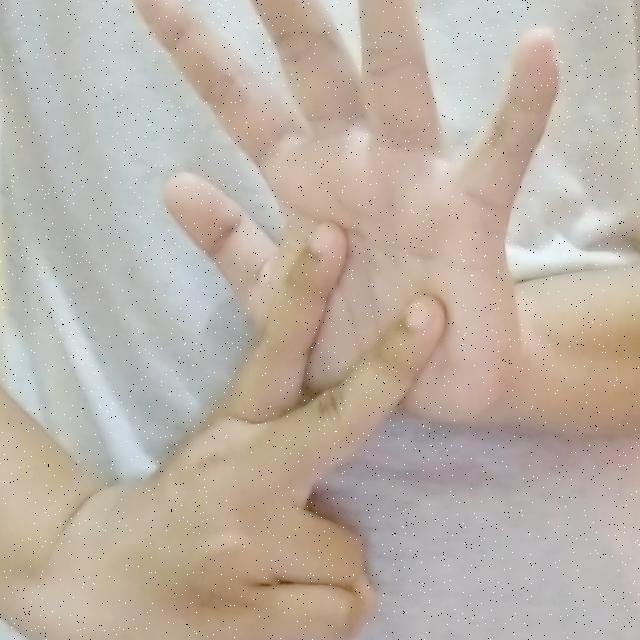N: (123, 14, 575, 484)
